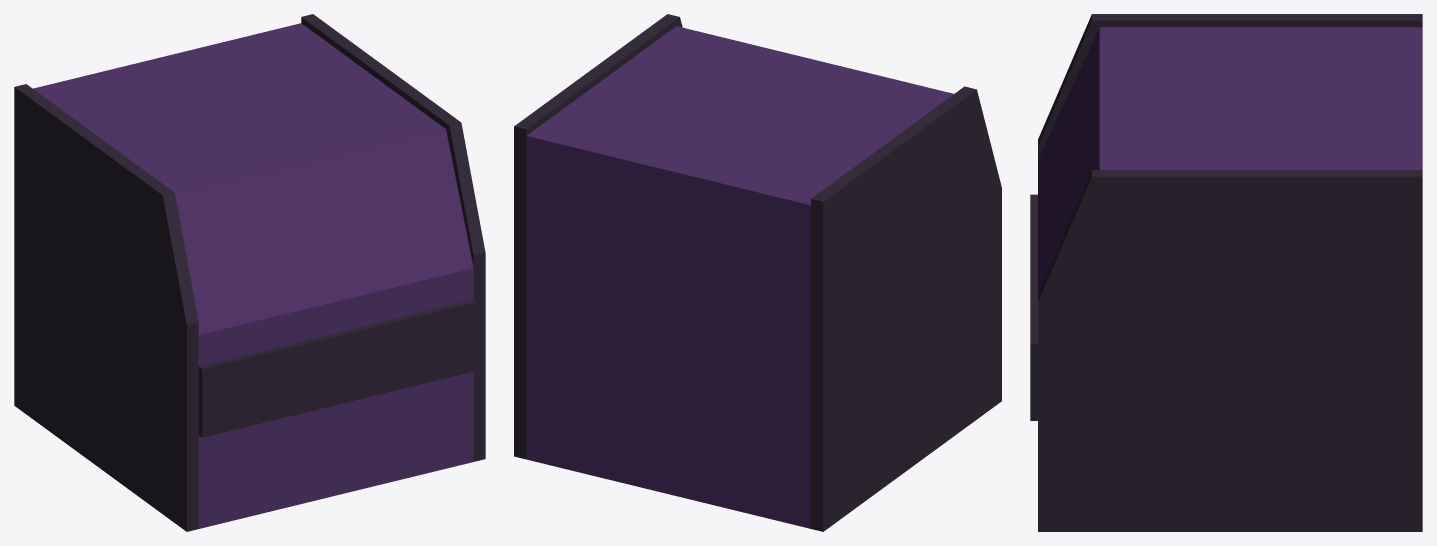
Rendered from SM_SB_Kit_AlienStep.fbx.
3 views of the same model, side by side, from view 1: azimuth 30°, elevation 25°; view 2: azimuth 150°, elevation 25°; view 3: azimuth 270°, elevation 25° (orthographic). The views are drawn at different scales.
Parts seen in each view (by area): view 1: SM_SB_Kit_AlienStep; view 2: SM_SB_Kit_AlienStep; view 3: SM_SB_Kit_AlienStep.
Part boxes in pixels (bbox=[...]): SM_SB_Kit_AlienStep: bbox=[14, 14, 485, 531]; SM_SB_Kit_AlienStep: bbox=[514, 14, 1001, 531]; SM_SB_Kit_AlienStep: bbox=[1030, 14, 1422, 531].
Size of the model in its own units: 100 by 102 by 102.
